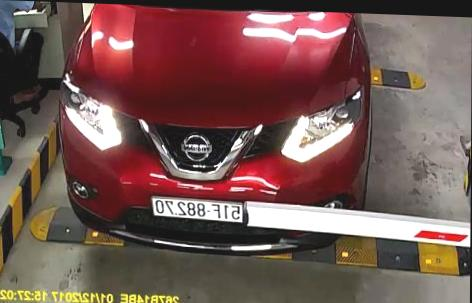License_Plate: (150, 196, 245, 224)
